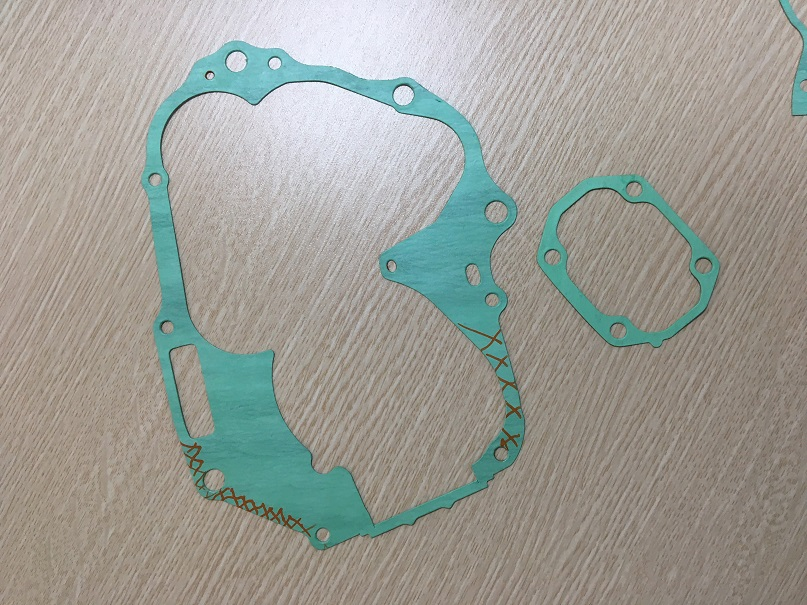type2: (532, 163, 723, 354)
type3: (127, 36, 537, 551)
